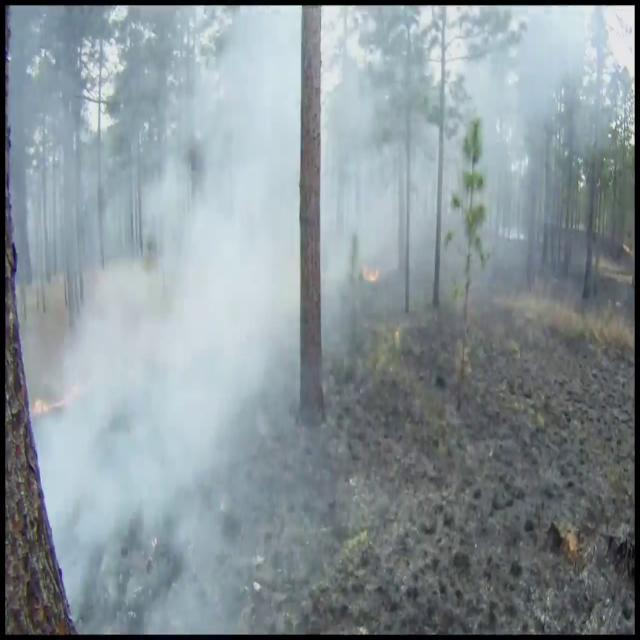Smoke: (29, 7, 334, 636), (25, 6, 629, 320)
